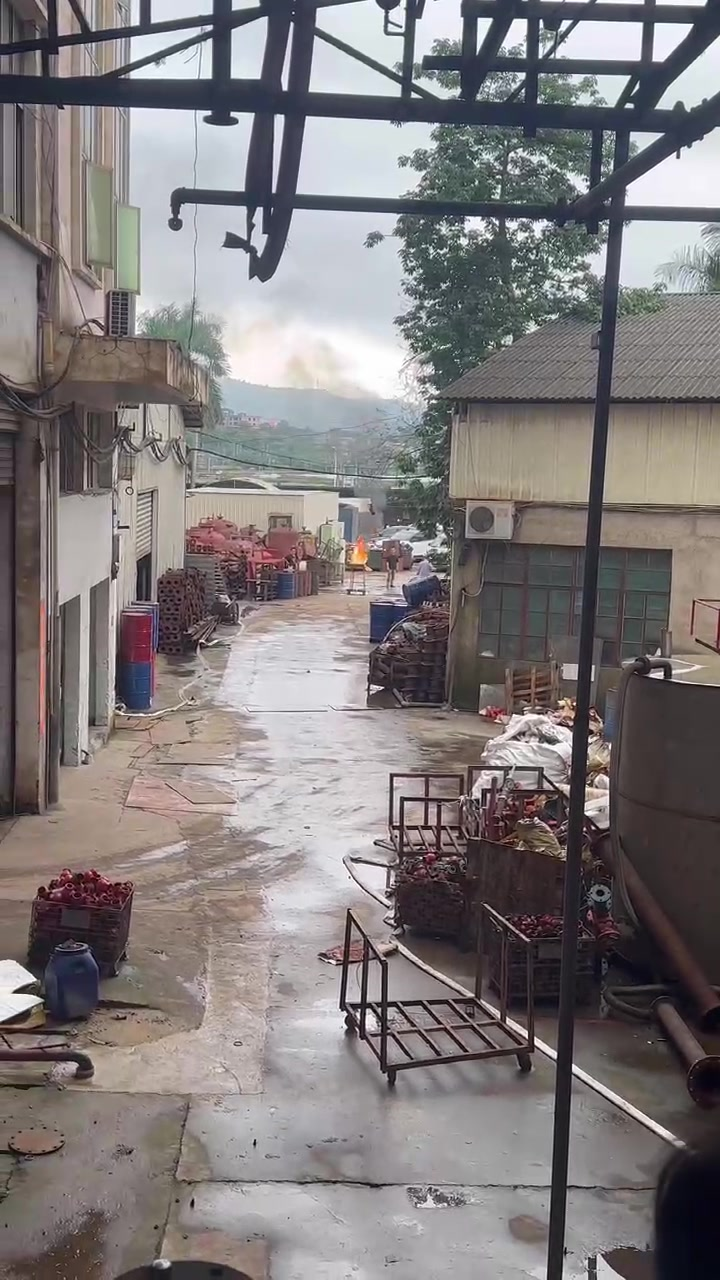fire: (349, 535, 367, 563)
